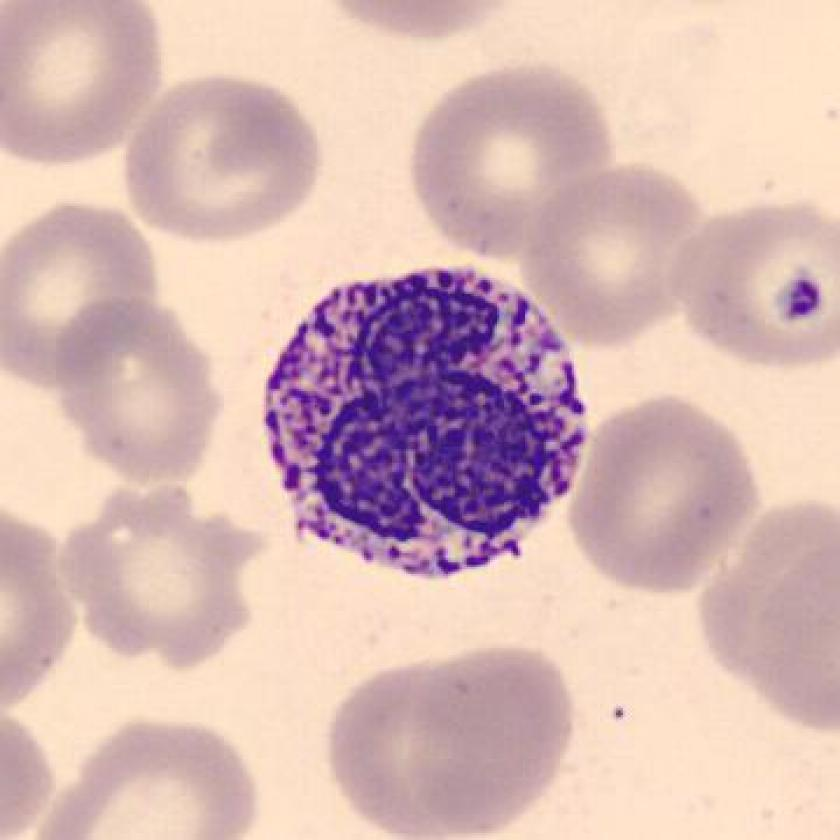basophil: (258, 256, 591, 589)
